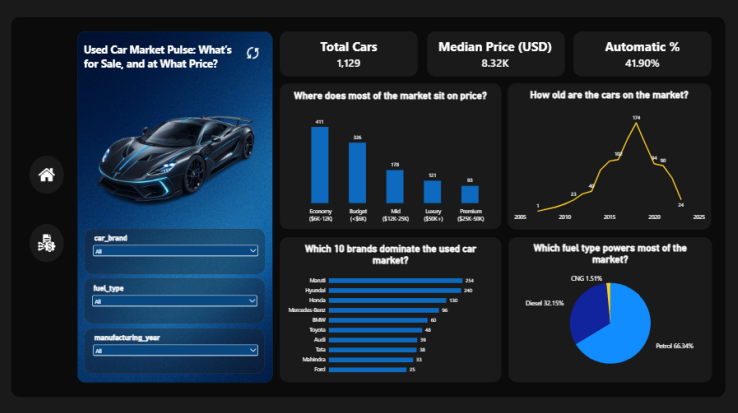

Layout of this report page (visuals, bound fields, positions):
{"tool":"powerbi","page":{"name":"Page 1","canvas":[1920,1080],"ordinal":1},"visuals":[{"type":"shape","box":[38,50,1844,980],"z":0},{"type":"shape","box":[731.6,87.1,357.5,116.1],"z":0,"group":"g1"},{"type":"shape","box":[84.6,408.8,88.8,99],"z":0,"group":"g2"},{"type":"shape","box":[1112.4,87.1,357.5,116.1],"z":1000,"group":"g1"},{"type":"shape","box":[84.6,584.4,88.8,99],"z":1000,"group":"g2"},{"type":"shape","box":[1321.9,619.4,526.5,375.5],"z":1000},{"type":"shape","box":[1490.9,87.1,357.5,116.1],"z":2000,"group":"g1"},{"type":"shape","box":[731.6,619.4,572.9,375.5],"z":2000},{"type":"shape","box":[731.6,220.6,572.9,377.4],"z":3000},{"type":"group","id":"g1","title":"Group 2","box":[731.6,87.1,1116.8,116.1],"z":4000},{"type":"image","box":[209,87.1,505.2,907.7],"z":5000},{"type":"textbox","box":[225,115.6,406.7,125.9],"z":6000},{"type":"image","box":[631.7,123.9,61.9,38.7],"z":7000},{"type":"image","box":[208.5,220.9,505.8,415],"z":8000},{"type":"shape","box":[228.4,598.1,464.5,116.1],"z":9000},{"type":"shape","box":[228.4,725.8,464.5,116.1],"z":10000},{"type":"shape","box":[228.4,855.5,464.5,116.1],"z":11000},{"type":"group","id":"g2","title":"Group 1","box":[84.6,408.8,88.8,274.6],"z":12000},{"type":"image","box":[84.6,435.6,89,42.6],"z":13000},{"type":"image","box":[84.6,609,88.8,51.6],"z":14000},{"type":"slicer","fields":{"Values":["Used Cars.car_brand"]},"box":[243.6,611.1,435.6,103.2],"z":15000},{"type":"cardVisual","fields":{"Data":["CountNonNull(Used Cars.car_name)"]},"box":[730.8,86.7,357.2,115.6],"z":16000},{"type":"cardVisual","fields":{"Data":["Dax.Median Price (Lakhs)"]},"box":[1110.7,86.7,357.2,115.6],"z":17000},{"type":"cardVisual","fields":{"Data":["Dax.Automatic %"]},"box":[1490.6,97,357.2,95],"z":18000},{"type":"clusteredBarChart","title":"Which 10 brands dominate the used car market?","fields":{"Category":["Used Cars.car_brand"],"Y":["CountNonNull(Used Cars.car_name)"]},"box":[730.8,619.4,573.9,375.7],"z":19000},{"type":"clusteredColumnChart","title":"Where does most of the market sit on price?","fields":{"Category":["Used Cars.price_segment"],"Y":["CountNonNull(Used Cars.car_name)"]},"box":[731.6,222.6,572.9,375.5],"z":20000},{"type":"pieChart","title":"Which fuel type powers most of the market?","fields":{"Category":["Used Cars.fuel_type"],"Y":["CountNonNull(Used Cars.car_name)"]},"box":[1321.9,617.4,526.5,377.4],"z":21000},{"type":"shape","box":[1321.3,220.9,526.5,377.8],"z":22000},{"type":"lineChart","title":"How old are the cars on the market?","fields":{"Category":["Used Cars.manufacturing_year"],"Y":["CountNonNull(Used Cars.car_name)"]},"box":[1321.3,220.9,526.5,375.7],"z":23000},{"type":"slicer","fields":{"Values":["Used Cars.fuel_type"]},"box":[241.9,739.4,435.6,103.2],"z":24000},{"type":"slicer","fields":{"Values":["Used Cars.manufacturing_year"]},"box":[243.6,867.1,435.6,103.2],"z":25000}]}

Visuals, with their boxes in screenshot pixels (x1, y1, x2, y2), scaled from the page's 1920x1080 canvas onto the 738x413 screenshot:
shape: (15, 19, 723, 394)
shape: (281, 33, 419, 78)
shape: (33, 156, 67, 194)
shape: (428, 33, 565, 78)
shape: (33, 223, 67, 261)
shape: (508, 237, 710, 380)
shape: (573, 33, 710, 78)
shape: (281, 237, 501, 380)
shape: (281, 84, 501, 229)
"Group 2" group: (281, 33, 710, 78)
image: (80, 33, 275, 380)
textbox: (86, 44, 243, 92)
image: (243, 47, 267, 62)
image: (80, 84, 275, 243)
shape: (88, 229, 266, 273)
shape: (88, 278, 266, 322)
shape: (88, 327, 266, 372)
"Group 1" group: (33, 156, 67, 261)
image: (33, 167, 67, 183)
image: (33, 233, 67, 253)
slicer - Used Cars.car_brand: (94, 234, 261, 273)
cardVisual - CountNonNull(Used Cars.car_name): (281, 33, 418, 77)
cardVisual - Dax.Median Price (Lakhs): (427, 33, 564, 77)
cardVisual - Dax.Automatic %: (573, 37, 710, 73)
"Which 10 brands dominate the used car market?" clusteredBarChart: (281, 237, 501, 381)
"Where does most of the market sit on price?" clusteredColumnChart: (281, 85, 501, 229)
"Which fuel type powers most of the market?" pieChart: (508, 236, 710, 380)
shape: (508, 84, 710, 229)
"How old are the cars on the market?" lineChart: (508, 84, 710, 228)
slicer - Used Cars.fuel_type: (93, 283, 260, 322)
slicer - Used Cars.manufacturing_year: (94, 332, 261, 371)
